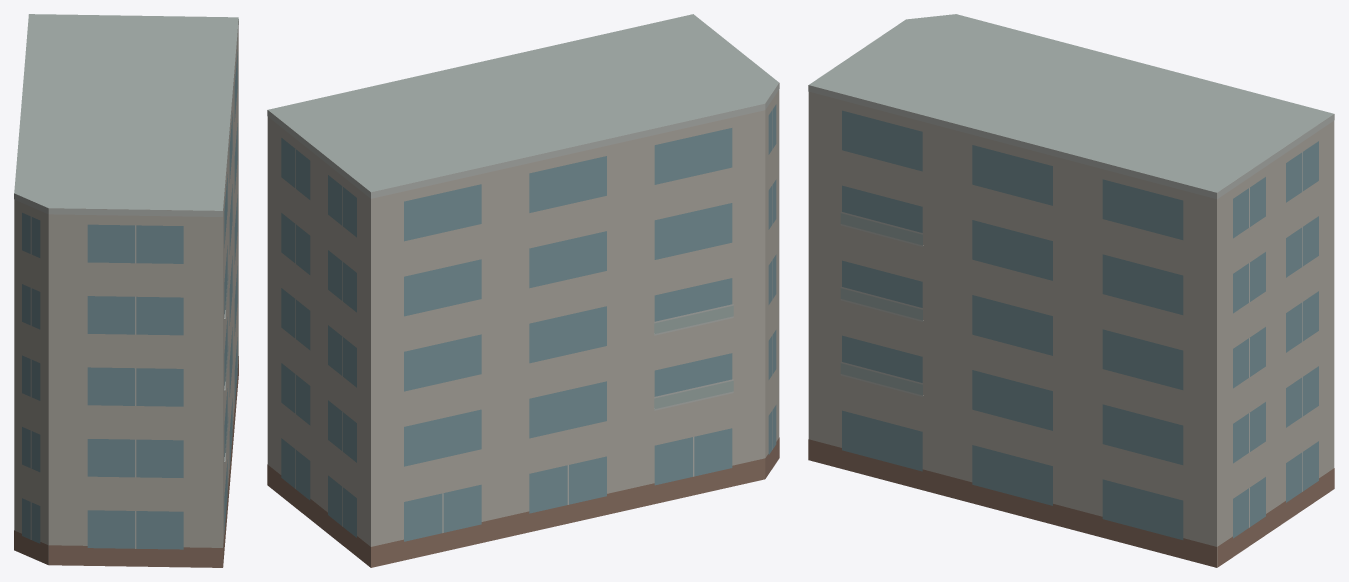
The model's file is survey-upis-32515948.glb.
3 views of the same model, side by side, from view 1: azimuth 30°, elevation 25°; view 2: azimuth 150°, elevation 25°; view 3: azimuth 270°, elevation 25° (orthographic). The views are drawn at different scales.
Parts seen in each view (by area): view 1: survey-upis-32515948.tmp; view 2: survey-upis-32515948.tmp; view 3: survey-upis-32515948.tmp.
Part boxes in pixels (<box>): survey-upis-32515948.tmp: <box>14,14,238,567</box>; survey-upis-32515948.tmp: <box>267,14,779,567</box>; survey-upis-32515948.tmp: <box>808,14,1334,567</box>.
Bounding box in the file's own units: 14.38 × 14.05 × 17.86.
